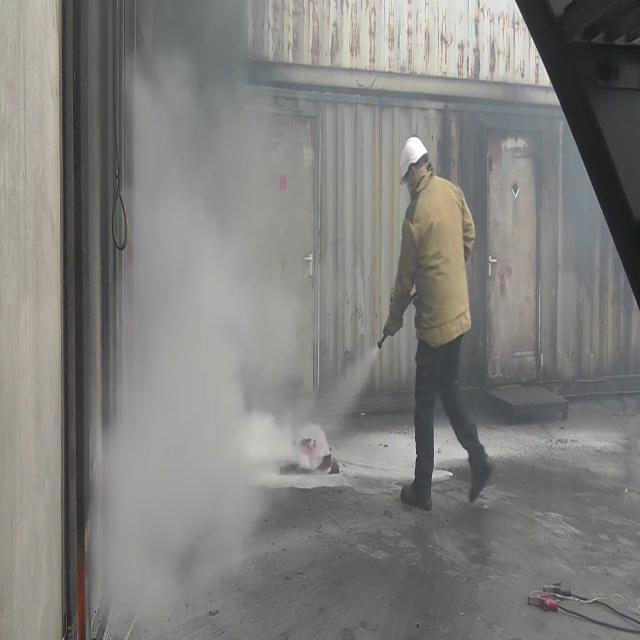Smoke: (87, 4, 335, 640)
